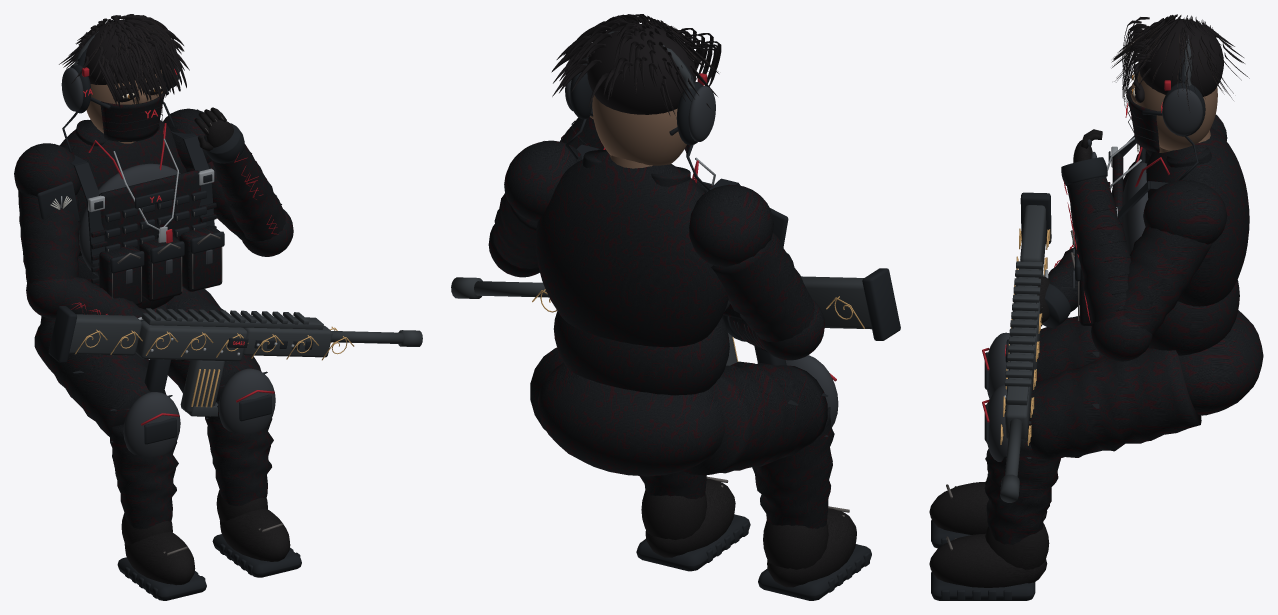
The model's file is yor-operator.glb.
The picture shows the model from 3 angles, left to right: view 1: azimuth 30°, elevation 25°; view 2: azimuth 150°, elevation 25°; view 3: azimuth 270°, elevation 25°; orthographic projection. The views are drawn at different scales.
Parts seen in each view (by area): view 1: operator-root-geometry, ornamental-rifle-prop-geometry, operator-head-geometry; view 2: operator-root-geometry, operator-head-geometry, ornamental-rifle-prop-geometry; view 3: operator-root-geometry, operator-head-geometry, ornamental-rifle-prop-geometry.
Boxes of the visible parts, bbox=[...] form: operator-root-geometry: bbox=[14, 107, 301, 600]; ornamental-rifle-prop-geometry: bbox=[48, 306, 422, 416]; operator-head-geometry: bbox=[59, 14, 189, 152]; operator-root-geometry: bbox=[488, 117, 871, 600]; operator-head-geometry: bbox=[551, 14, 721, 191]; ornamental-rifle-prop-geometry: bbox=[451, 268, 900, 365]; operator-root-geometry: bbox=[929, 114, 1263, 600]; operator-head-geometry: bbox=[1111, 14, 1249, 180]; ornamental-rifle-prop-geometry: bbox=[1000, 192, 1051, 502].
Bounding box in the file's own units: 1.42 × 1.86 × 1.03.
17 materials, 2 textured.
